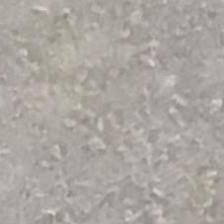Non_Crack: (20, 9, 209, 224)
